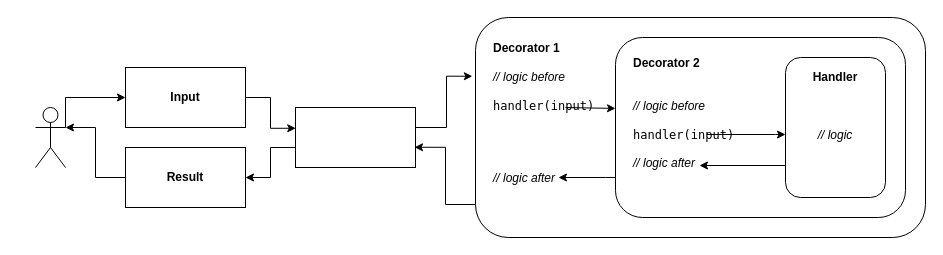
Some shapes in this 943 by 255 pixel diagram are drawn without their labels. Here are the shapes that lost their labels. From the top down, the centre of each, then its label:
At point 50,137: "Happy Programmer".
At point 355,137: "Dispatcher".
